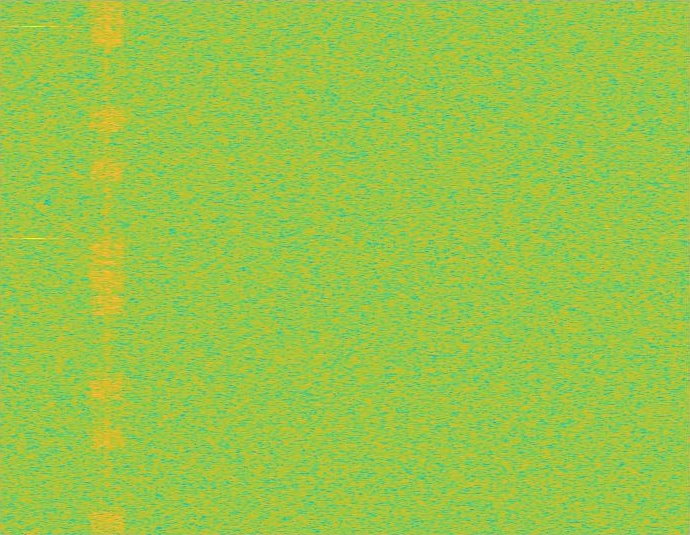DSSS: (105, 0, 110, 534)
LTE: (90, 0, 125, 534)
Radar: (27, 0, 40, 534)
